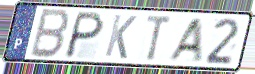2: (202, 17, 241, 66)
A: (164, 16, 204, 63)
B: (28, 7, 73, 61)
K: (102, 13, 138, 61)
P: (61, 10, 107, 61)
T: (145, 14, 174, 63)
